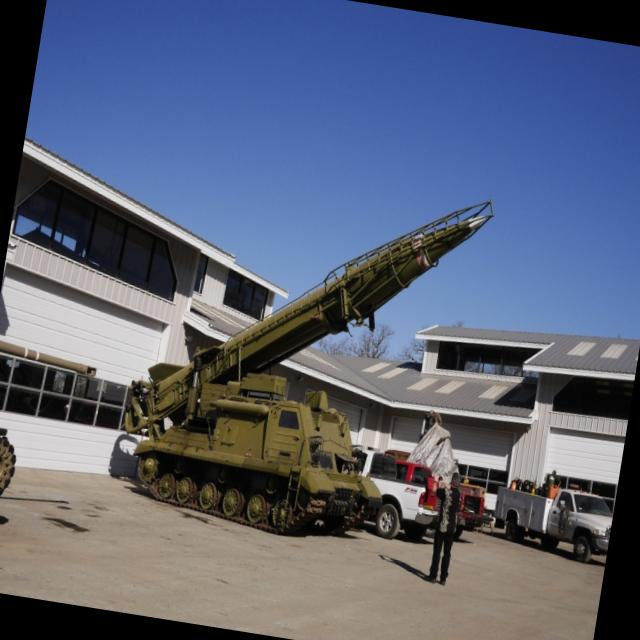rocket: (132, 156, 495, 481)
